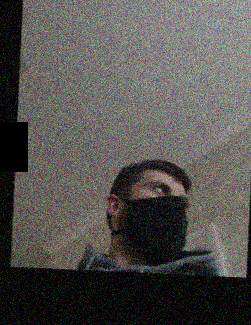with_mask: (123, 179, 189, 263)
